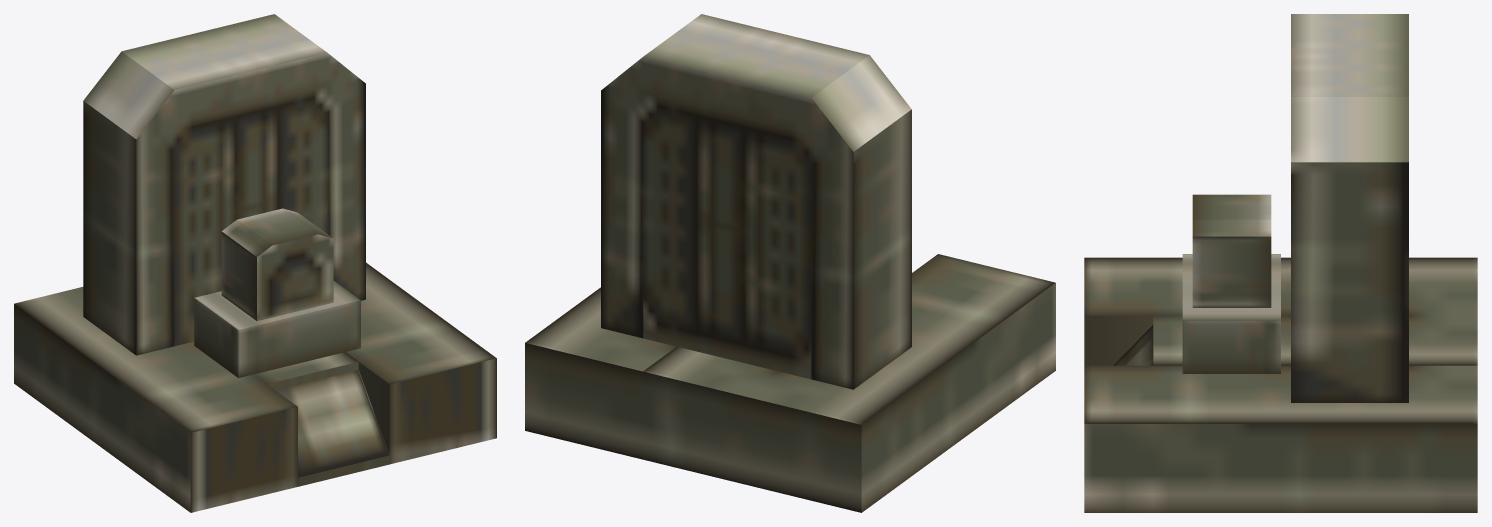
The model's file is Poly_Tomb_Stone_02.obj.
3 renders of one model, left to right at view 1: azimuth 30°, elevation 25°; view 2: azimuth 150°, elevation 25°; view 3: azimuth 270°, elevation 25°, orthographic. The views are drawn at different scales.
Visible parts, largest first — view 1: Cube.001, Cube; view 2: Cube.001, Cube; view 3: Cube, Cube.001.
Boxes of the visible parts, left/top/right/bottom form: Cube.001: left=83, top=14, right=365, bottom=377; Cube: left=14, top=262, right=496, bottom=512; Cube.001: left=601, top=14, right=911, bottom=389; Cube: left=525, top=254, right=1055, bottom=512; Cube: left=1084, top=257, right=1477, bottom=512; Cube.001: left=1182, top=14, right=1408, bottom=402.
Bounding box in the file's own units: 0.8065 × 0.847 × 0.8066.
1 material, 1 textured.
